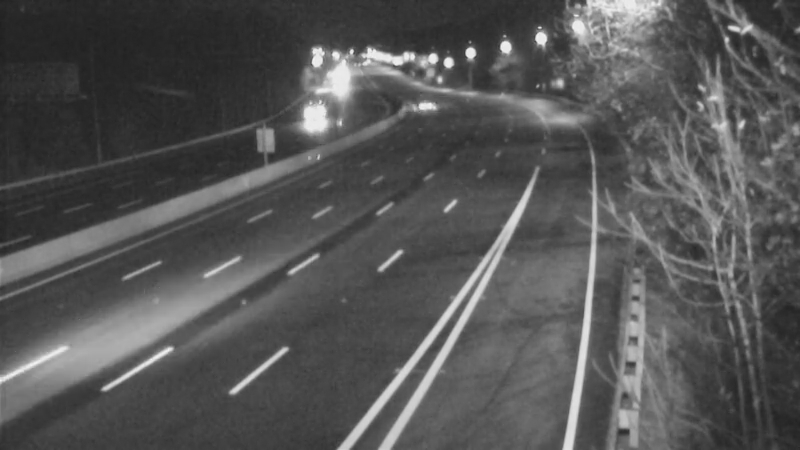vehicle: (396, 79, 446, 129), (289, 97, 339, 147), (312, 63, 362, 113)
